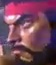ryu: (6, 0, 52, 64)
